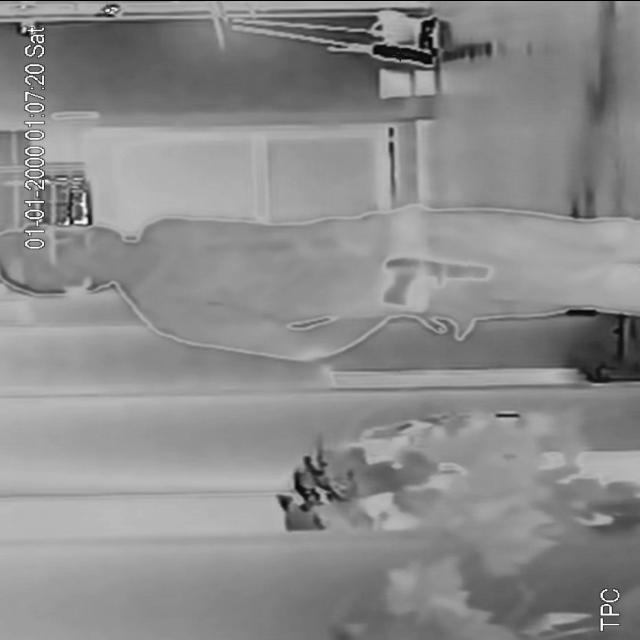Weapon: (376, 242, 504, 308)
